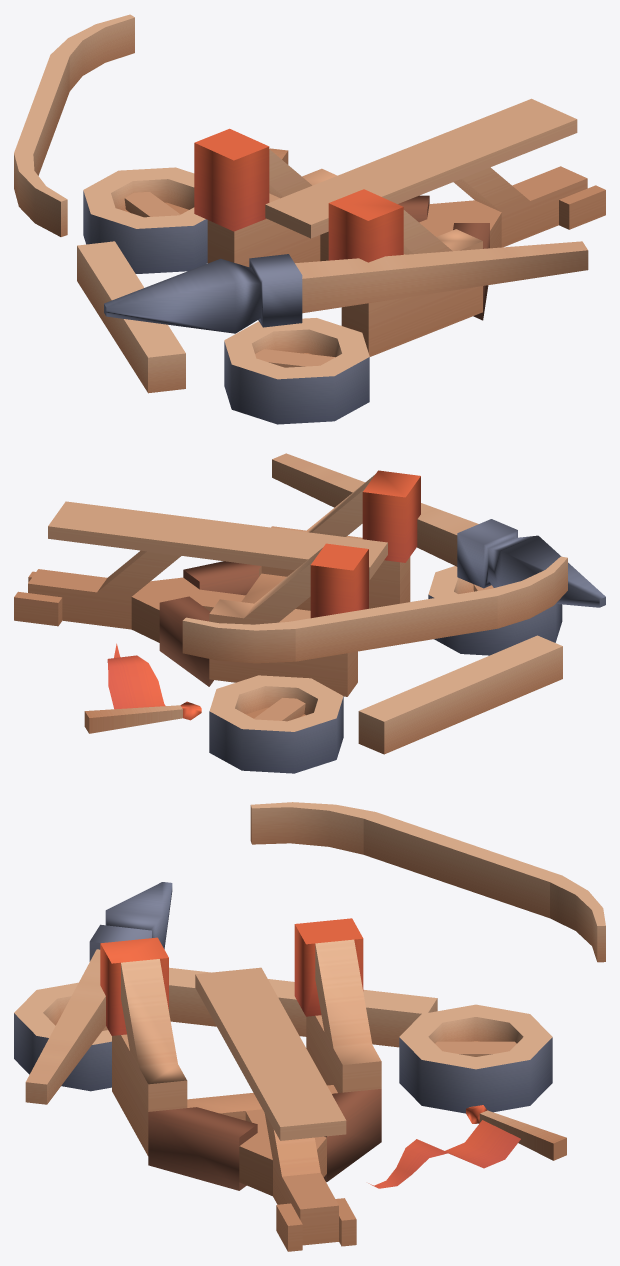
Rendered from siege-ballista-demolished.fbx.
3 views of the same model, one above another, from view 1: azimuth 30°, elevation 25°; view 2: azimuth 150°, elevation 25°; view 3: azimuth 270°, elevation 25° (orthographic). The views are drawn at different scales.
Visible parts, largest first — view 1: siege-ballista-demolished; view 2: siege-ballista-demolished; view 3: siege-ballista-demolished.
Boxes of the visible parts, x1=… form: siege-ballista-demolished: x1=14, y1=14, x2=605, y2=424; siege-ballista-demolished: x1=14, y1=453, x2=605, y2=773; siege-ballista-demolished: x1=14, y1=802, x2=605, y2=1251.
Bounding box in the file's own units: 1.75 × 1.55 × 0.5097.
